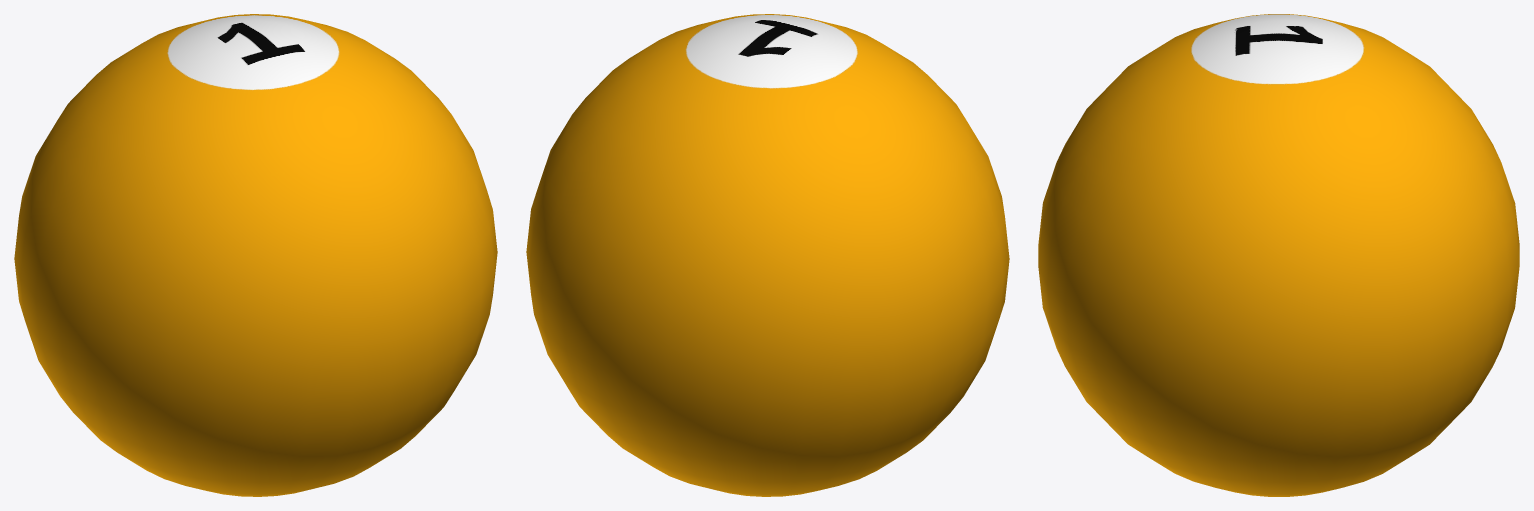
File: 1Ball.glb
3 views of the same model, side by side, from view 1: azimuth 30°, elevation 25°; view 2: azimuth 150°, elevation 25°; view 3: azimuth 270°, elevation 25° (orthographic).
Visible parts, largest first — view 1: SphereSolid; view 2: SphereSolid; view 3: SphereSolid.
Boxes of the visible parts, x1,y1,x2,y2 form: SphereSolid: (14, 14, 497, 496); SphereSolid: (526, 14, 1009, 496); SphereSolid: (1038, 14, 1519, 496).
Size of the model in its own units: 0.1991 by 0.2 by 0.1991.
Materials: 1 (1 with a texture image).
